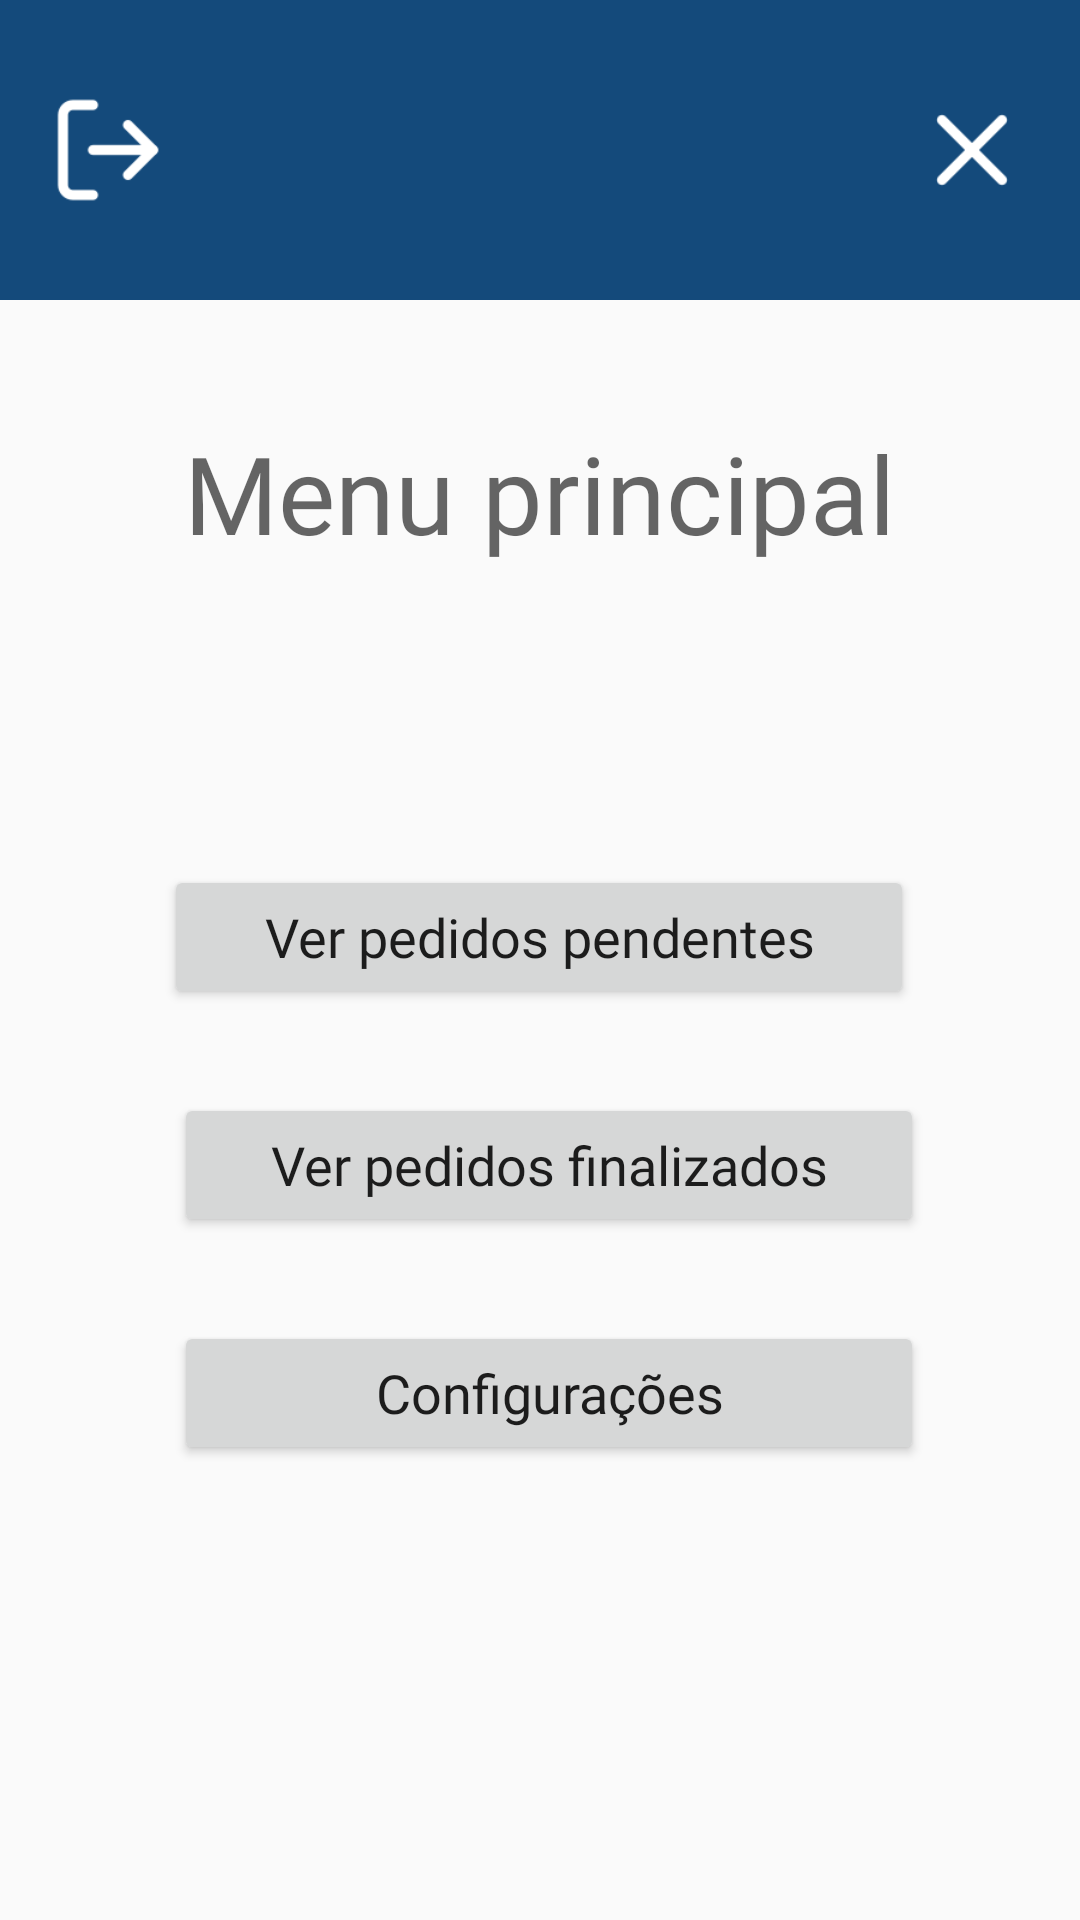

Where to tap for icons on this 1080px x 1920px app screen, as point (x, y):
Fechar app: point (972, 150)
